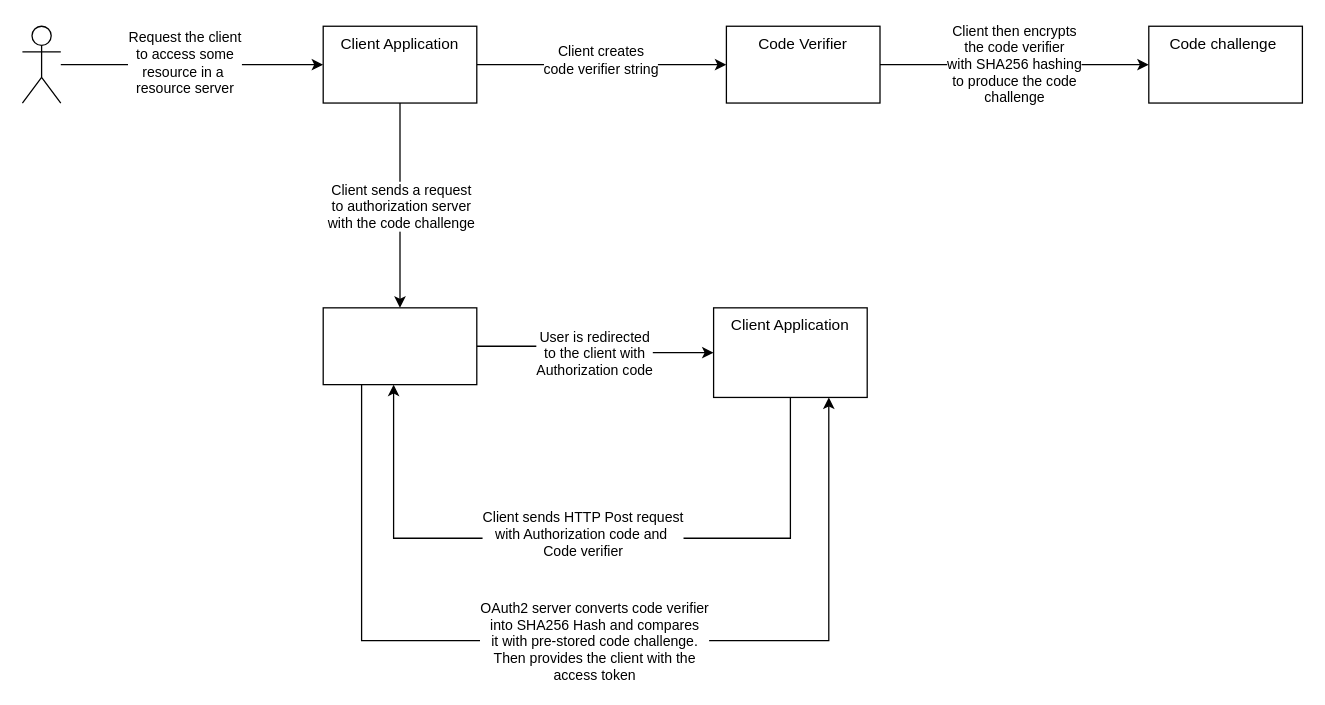
The diagram is 1325 pixels wide and 705 high, and some of its shapes have lost their labels. Here are the shapes that lost their labels. From the top down, the box of each, then its label:
(21, 25, 61, 103): User
(322, 307, 477, 385): OAuth2 Authorization server
